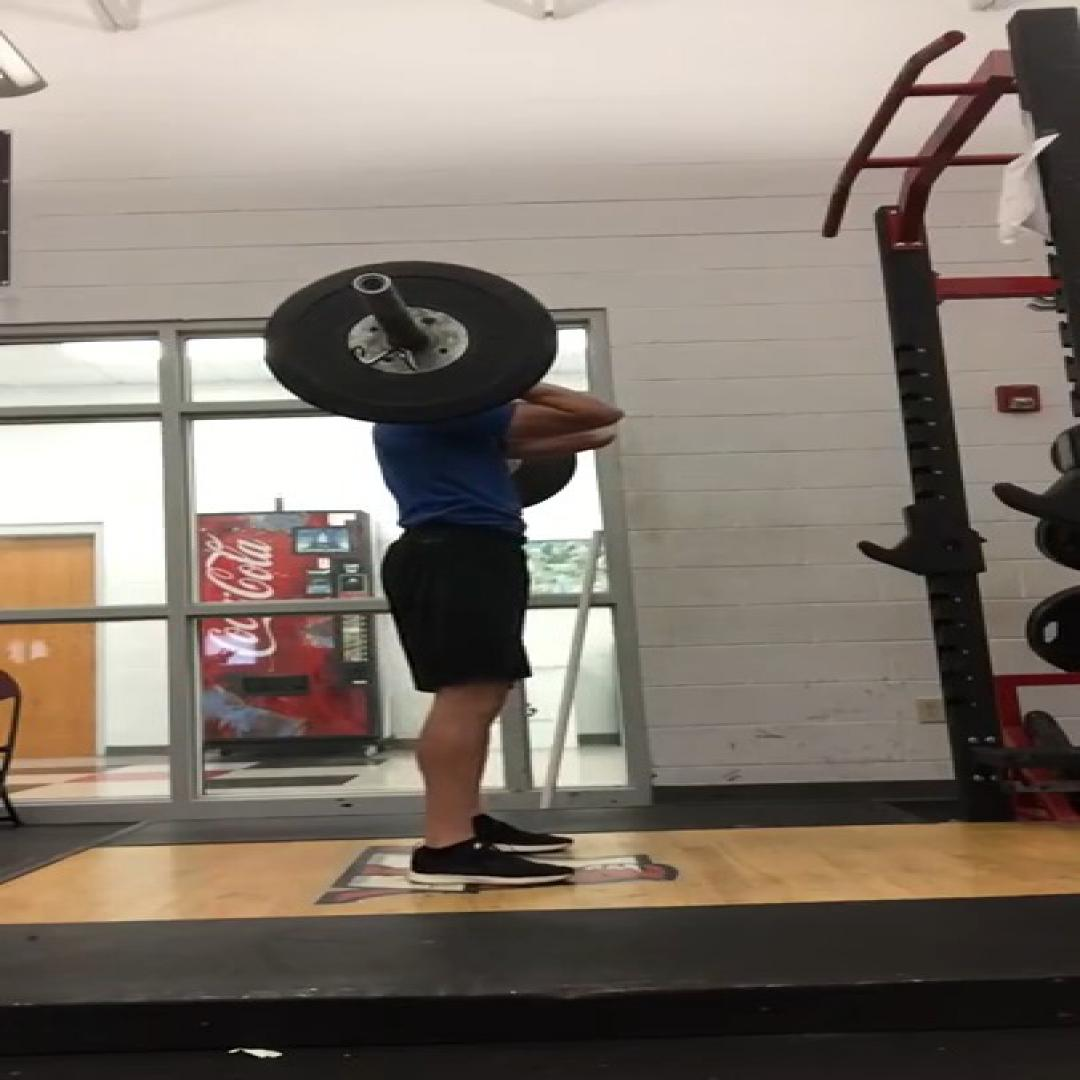Bar: (352, 272, 392, 295)
Barbell: (265, 260, 557, 424)
